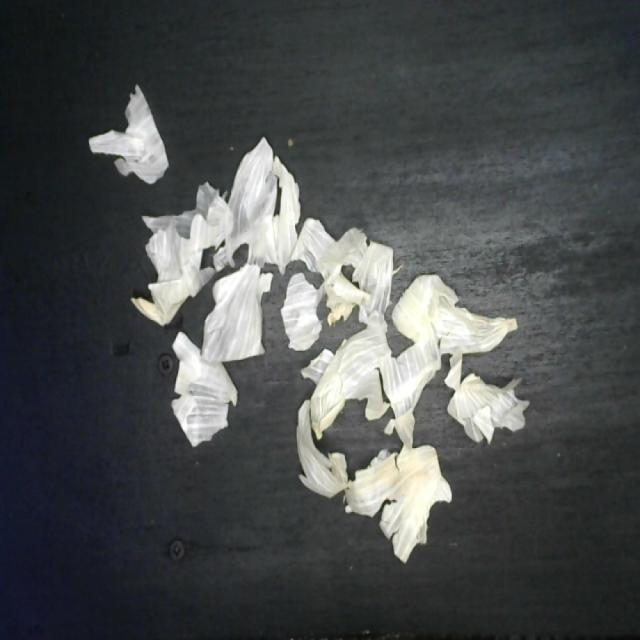biodegradable: (83, 80, 529, 569)
